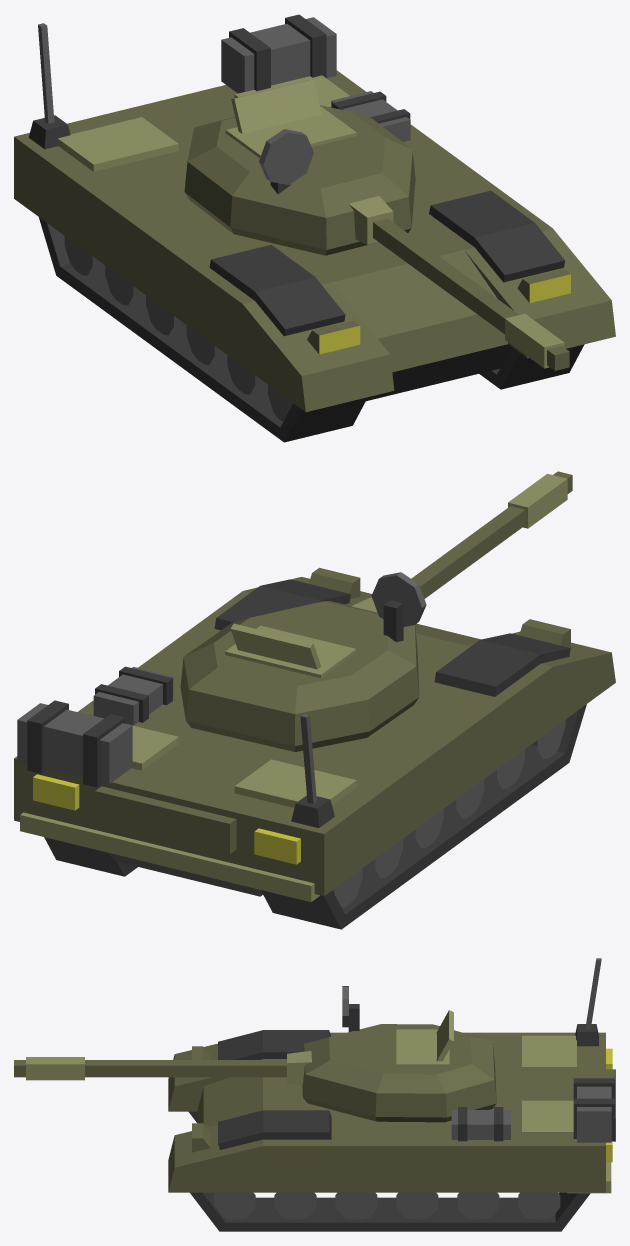
Rendered from LowPolyTankModel.fbx.
3 views of the same model, one above another, from view 1: azimuth 30°, elevation 25°; view 2: azimuth 150°, elevation 25°; view 3: azimuth 270°, elevation 25° (orthographic). The views are drawn at different scales.
Visible parts, largest first — view 1: Armazon, Torreta; view 2: Armazon, Torreta; view 3: Armazon, Torreta.
Boxes of the visible parts, x1,y1,x2,y2 form: Armazon: (14, 14, 615, 442); Torreta: (184, 79, 569, 370); Armazon: (14, 567, 615, 929); Torreta: (180, 471, 572, 751); Armazon: (168, 958, 615, 1231); Torreta: (14, 986, 496, 1122).
Size of the model in its own units: 48.28 by 34.13 by 108.
